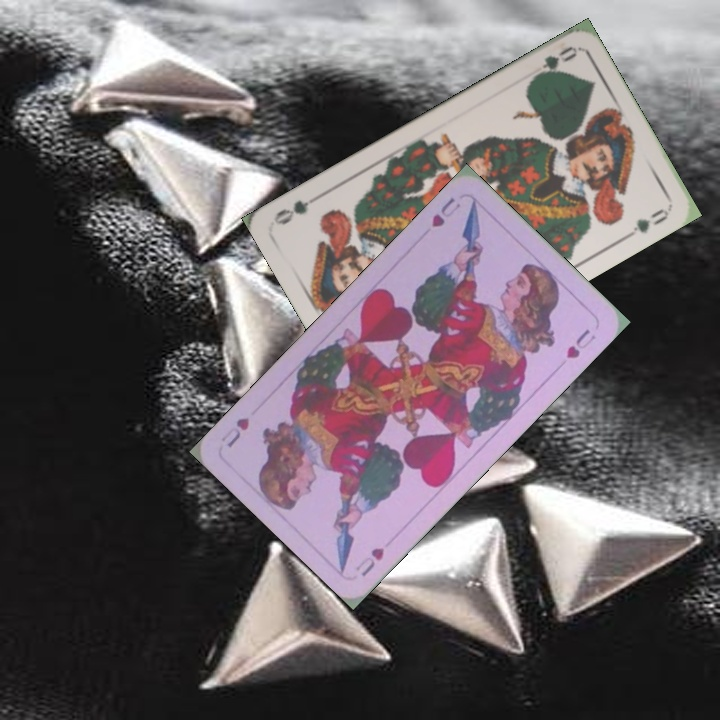GO: (526, 42, 579, 85)
HU: (427, 193, 464, 230), (351, 543, 387, 579)
